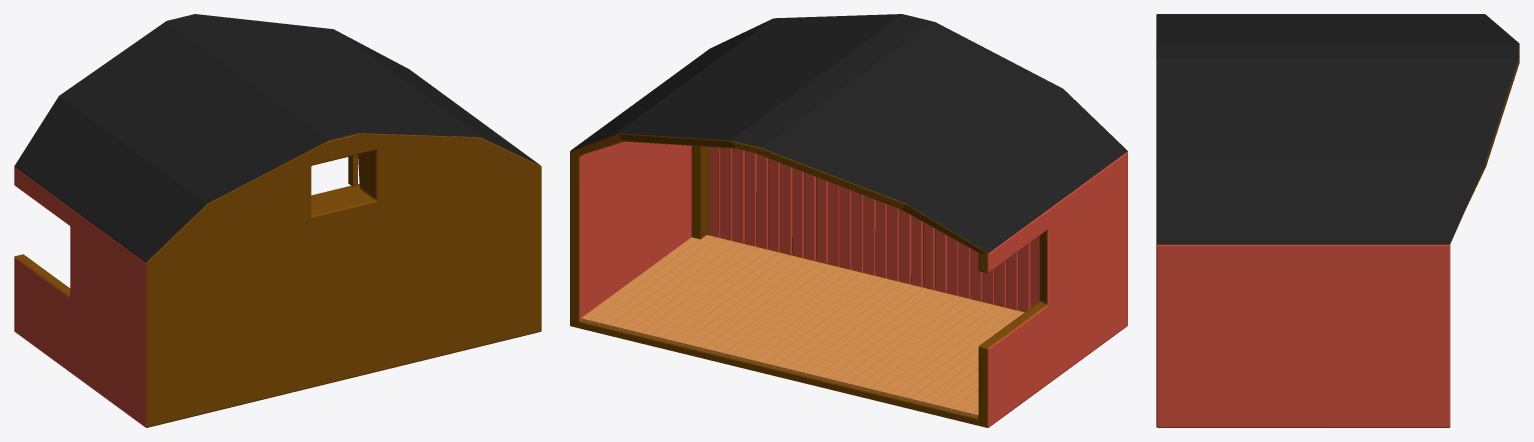
The model's file is barn.fbx.
3 views of the same model, side by side, from view 1: azimuth 30°, elevation 25°; view 2: azimuth 150°, elevation 25°; view 3: azimuth 270°, elevation 25° (orthographic). The views are drawn at different scales.
Parts seen in each view (by area): view 1: Cube; view 2: Cube, Cube.002, Cube.001, Cube.005; view 3: Cube.
Boxes of the visible parts, x1,y1,x2,y2 form: Cube: [14, 14, 541, 427]; Cube: [570, 14, 1127, 427]; Cube.002: [581, 235, 1024, 417]; Cube.001: [709, 147, 1039, 311]; Cube.005: [691, 146, 708, 239]; Cube: [1156, 14, 1519, 427].
Size of the model in its own units: 5734 by 3369 by 4102.
